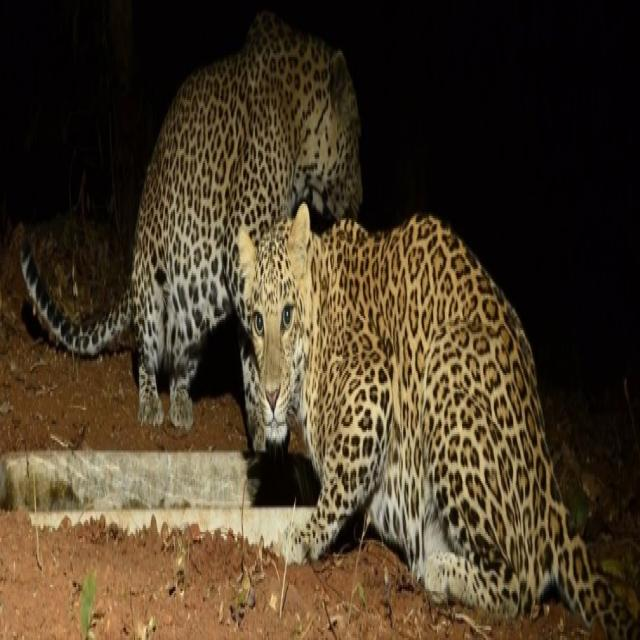Leopard: (238, 207, 636, 622), (21, 11, 363, 426)
